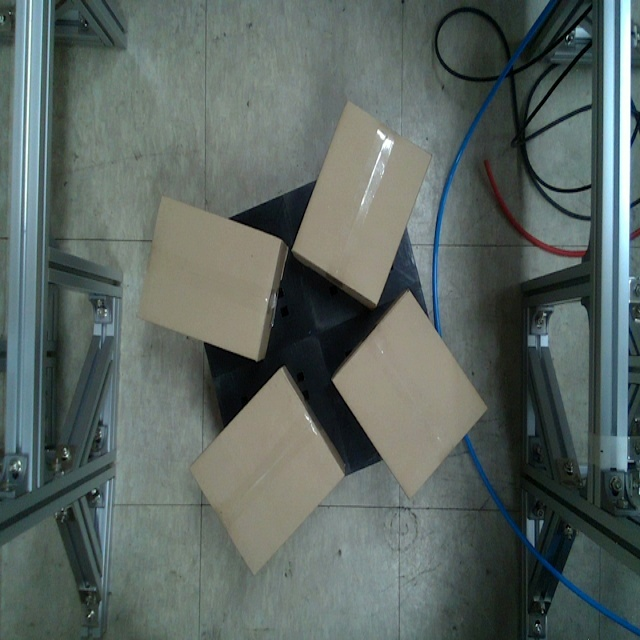box: (187, 367, 347, 577), (330, 289, 489, 500), (290, 100, 433, 306), (134, 193, 285, 363)
